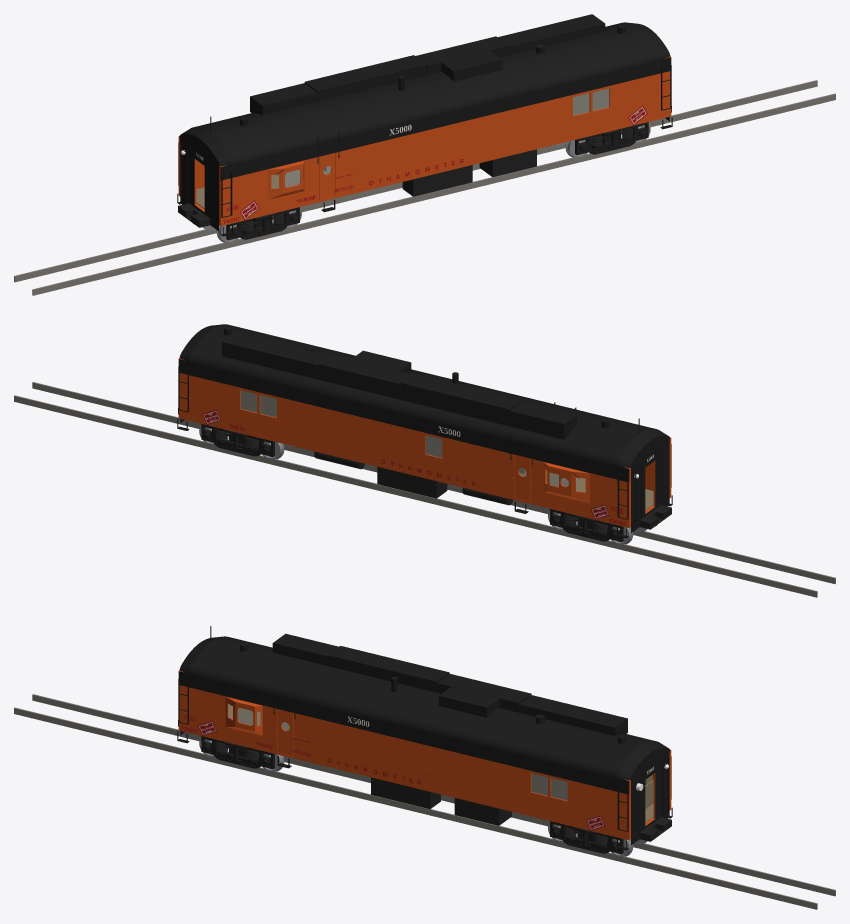
The model's file is X5000_dyno_G.glb.
3 renders of one model, top to bottom at view 1: azimuth 30°, elevation 25°; view 2: azimuth 150°, elevation 25°; view 3: azimuth 330°, elevation 25°, orthographic.
Visible parts, largest first — view 1: black, orange, rails, trucks, frame, inside, details, glass, red, wheels; view 2: black, orange, rails, trucks, frame, inside, glass, details, red, wheels; view 3: black, orange, rails, trucks, frame, inside, details, glass, red, wheels.
Boxes of the visible parts, x1,y1,x2,y2 form: black: (179, 14, 671, 231); orange: (178, 56, 671, 226); rails: (14, 80, 835, 295); trucks: (226, 122, 648, 240); frame: (178, 106, 671, 227); inside: (196, 88, 608, 208); details: (177, 65, 672, 236); glass: (285, 88, 609, 187); red: (224, 105, 647, 223); wheels: (202, 122, 650, 242); black: (178, 324, 670, 532); orange: (178, 358, 671, 527); rails: (14, 382, 835, 597); trucks: (201, 424, 623, 541); frame: (178, 408, 671, 529); inside: (241, 390, 653, 510); glass: (240, 390, 568, 486); details: (177, 367, 672, 538); red: (202, 409, 625, 525); wheels: (199, 424, 646, 544); black: (178, 626, 670, 845); orange: (178, 670, 671, 840); rails: (14, 694, 835, 909); trucks: (201, 736, 623, 854); frame: (178, 720, 671, 841); inside: (228, 704, 653, 822); details: (177, 679, 672, 850); glass: (238, 708, 567, 800); red: (181, 714, 605, 830); wheels: (199, 736, 647, 856).
Size of the model in its own units: 1.14 by 0.1714 by 0.1195.
